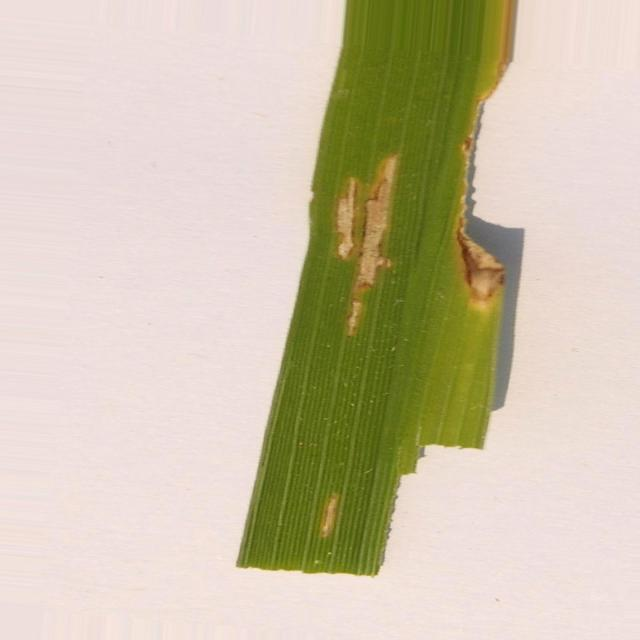Bacterial_Leaf_Blight: (335, 152, 401, 338), (456, 215, 504, 309), (318, 491, 341, 539)
